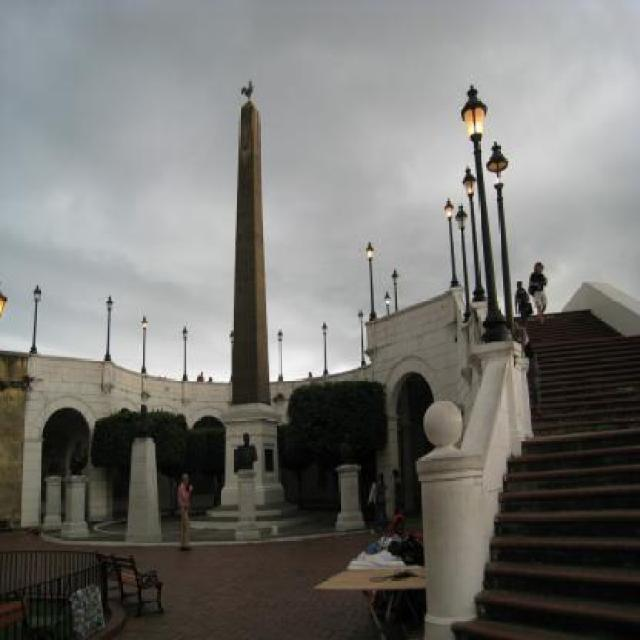stair: (440, 311, 640, 640)
